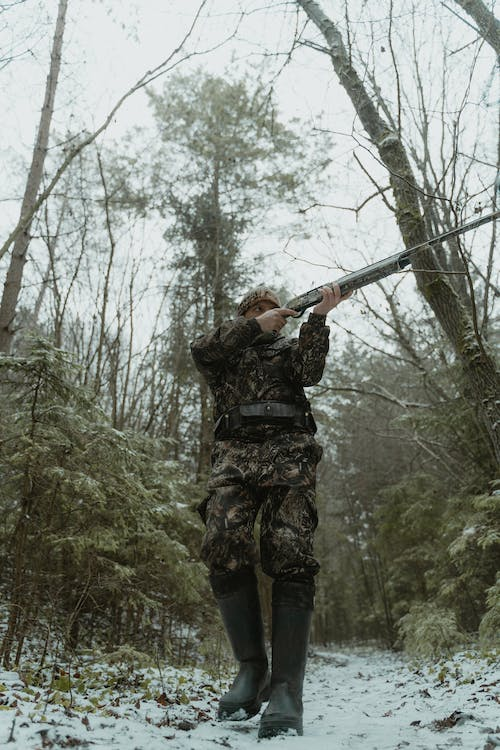gun: (278, 207, 500, 318)
